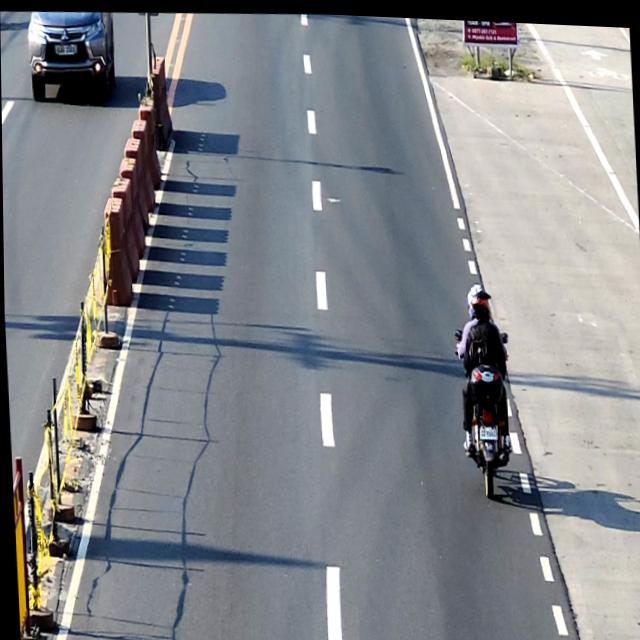Car: (24, 8, 117, 109)
License-Plate: (476, 420, 496, 438), (56, 43, 75, 55)
Motorcycle: (452, 316, 515, 497)
